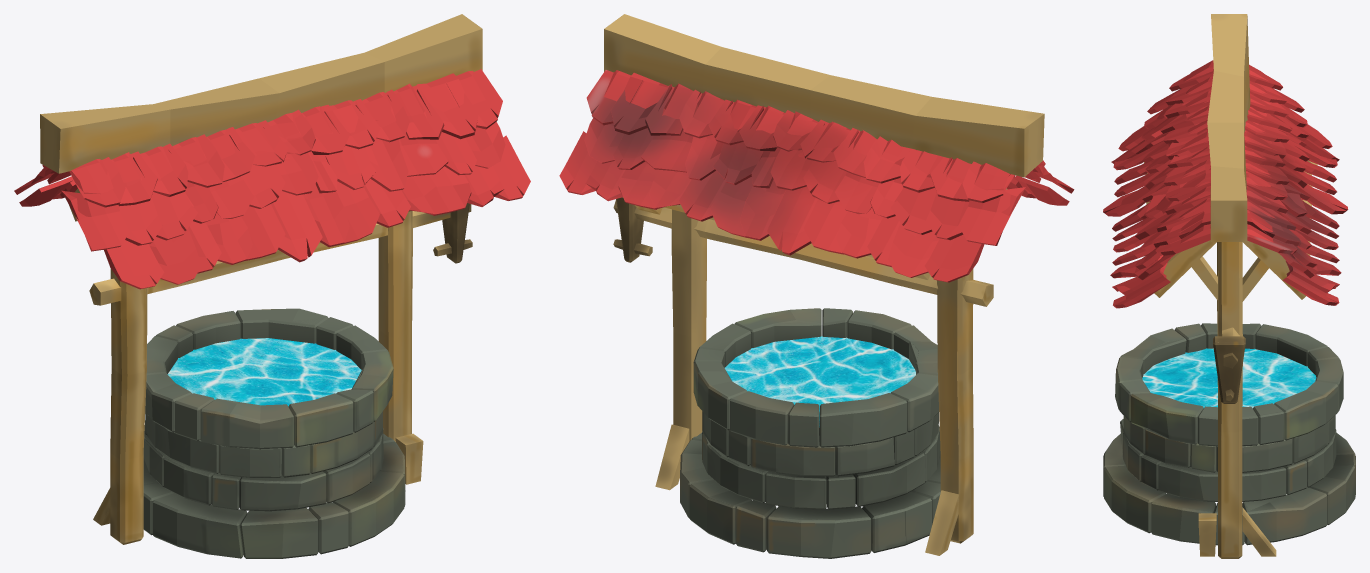
Rendered from Well.fbx.
The picture shows the model from 3 angles, left to right: view 1: azimuth 30°, elevation 25°; view 2: azimuth 150°, elevation 25°; view 3: azimuth 270°, elevation 25°; orthographic projection. The views are drawn at different scales.
Visible parts, largest first — view 1: Plane.022, Cube.002, Cube.020, Cylinder; view 2: Plane.022, Cube.020, Cube.002, Cylinder; view 3: Cube.002, Plane.022, Cube.020, Cylinder.
Part boxes in pixels (left/top/right/bottom): Plane.022: left=14, top=69, right=530, bottom=289; Cube.002: left=143, top=308, right=405, bottom=558; Cube.020: left=40, top=14, right=482, bottom=544; Cylinder: left=167, top=338, right=361, bottom=406; Plane.022: left=559, top=70, right=1074, bottom=282; Cube.020: left=604, top=14, right=1044, bottom=555; Cube.002: left=680, top=308, right=940, bottom=558; Cylinder: left=724, top=336, right=915, bottom=427; Cube.002: left=1103, top=323, right=1355, bottom=545; Plane.022: left=1103, top=60, right=1348, bottom=308; Cube.020: left=1144, top=14, right=1317, bottom=558; Cylinder: left=1142, top=348, right=1316, bottom=408.
Bounding box in the file's own units: 3923 × 3882 × 2278.
Materials: 4 (4 with a texture image).
